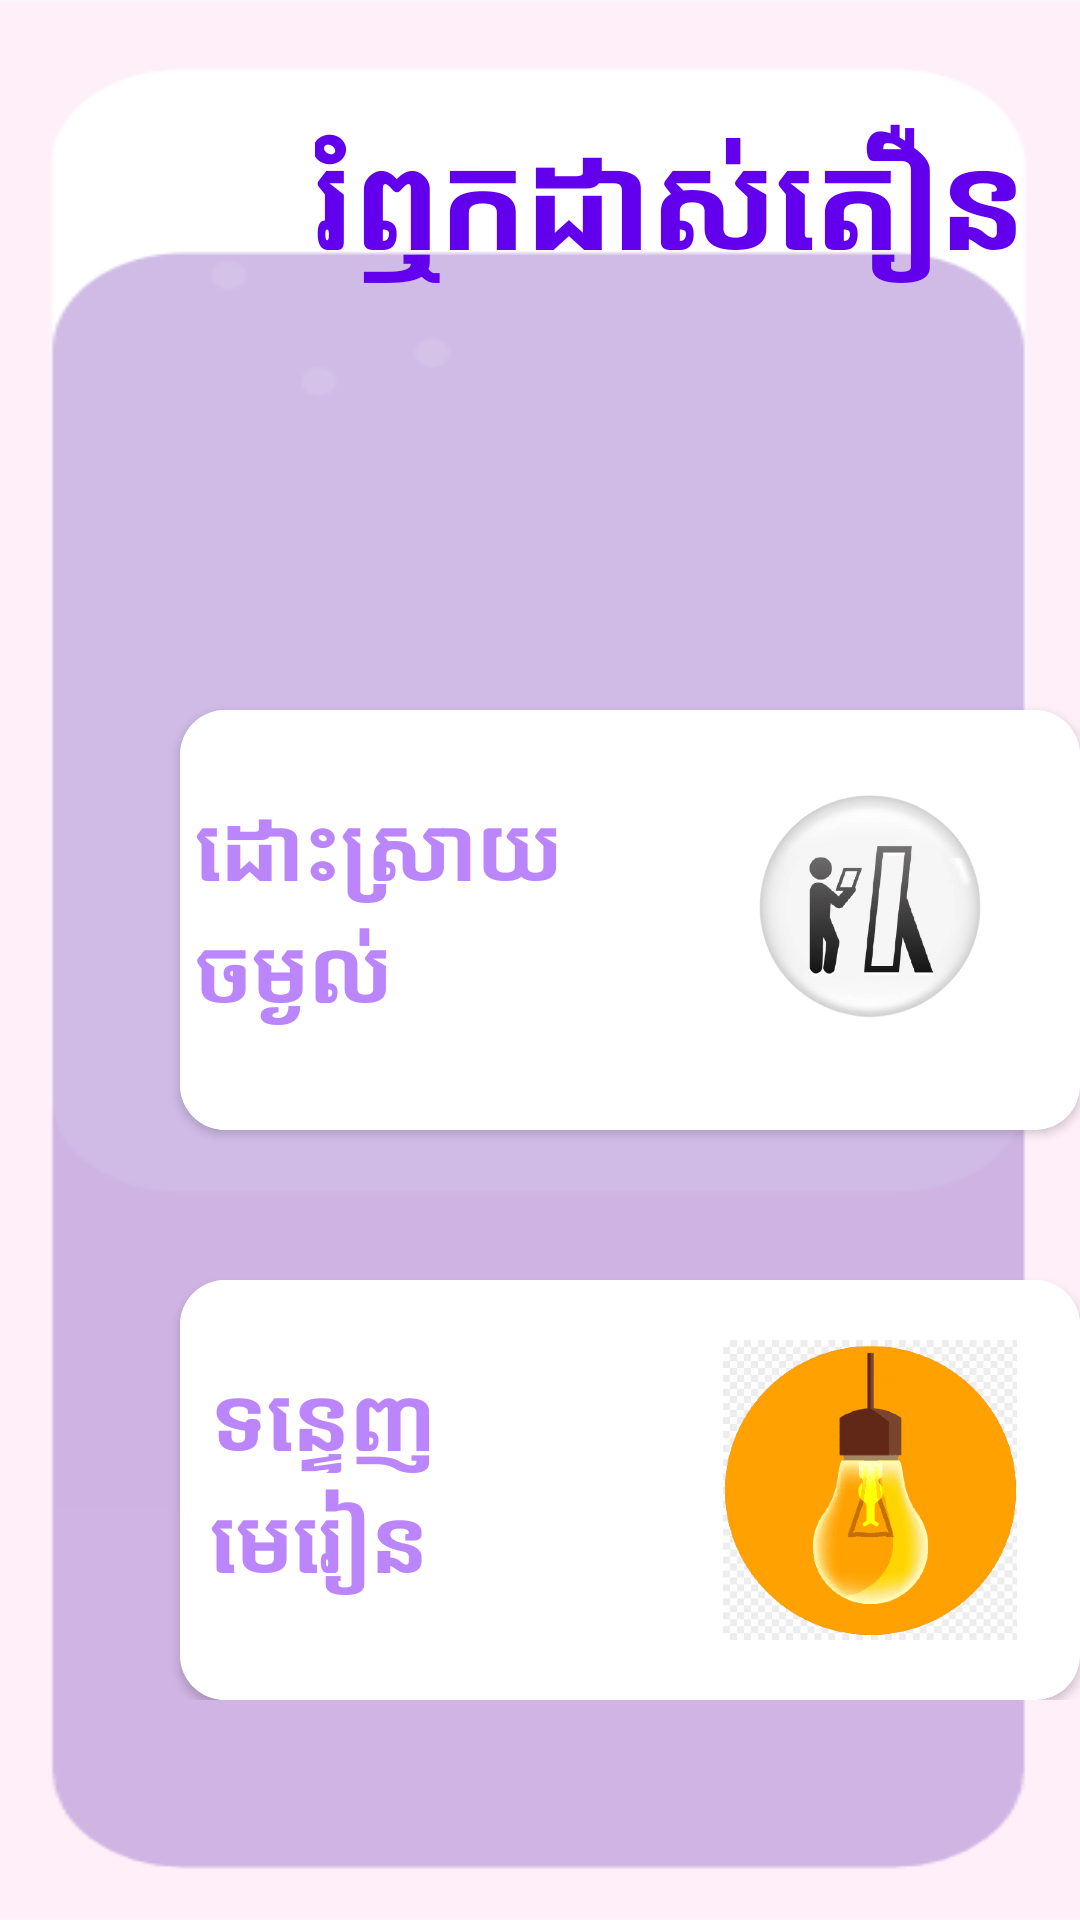

Where to tap for icons on this 1080px x 1920px app screen, as point (x, y):
rehearse: point (870, 906)
